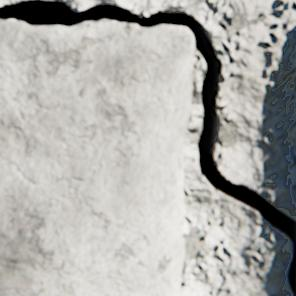brick: (294, 271, 295, 295)
broken_brick: (0, 20, 193, 295)
crack: (0, 0, 295, 295)
